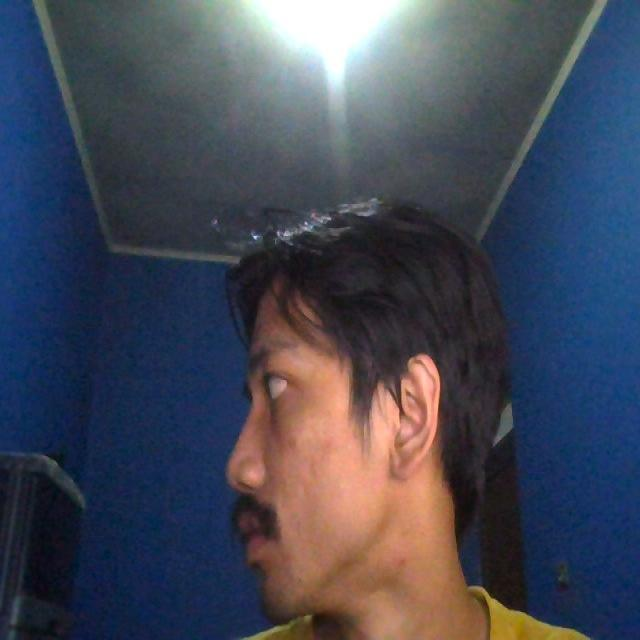Melihat kekanan: (194, 205, 518, 595)
